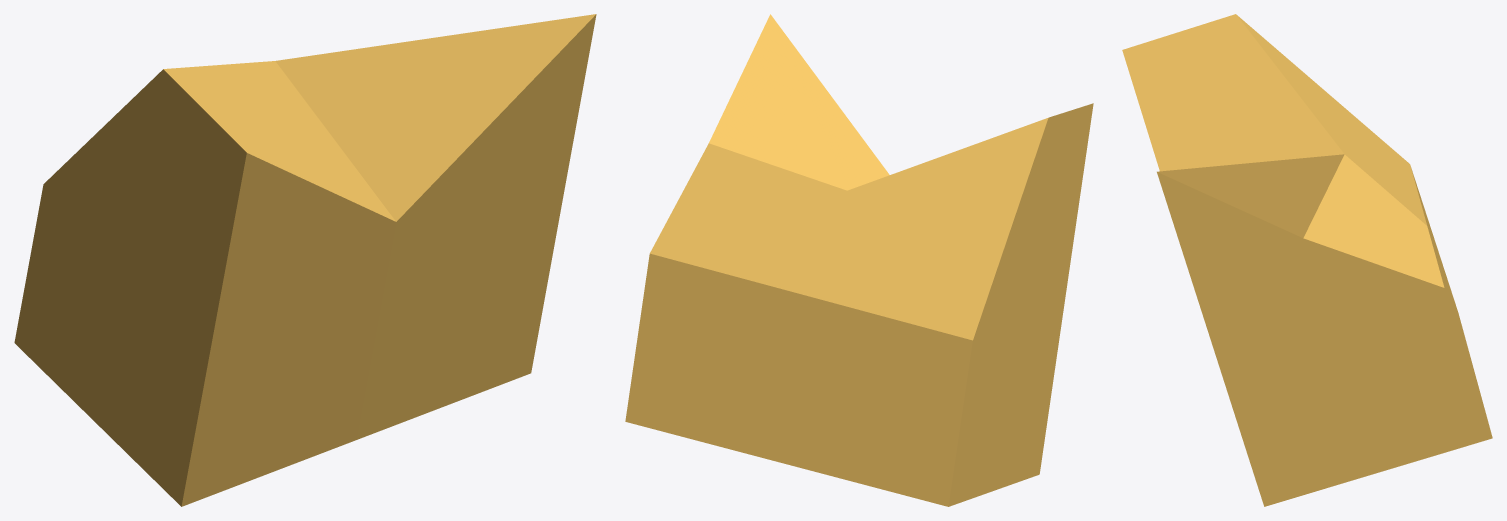
The model's file is Boat skeleton broken column.fbx.
3 renders of one model, left to right at view 1: azimuth 30°, elevation 25°; view 2: azimuth 150°, elevation 25°; view 3: azimuth 270°, elevation 25°, orthographic. The views are drawn at different scales.
Parts seen in each view (by area): view 1: Broken columns; view 2: Broken columns; view 3: Broken columns.
Part boxes in pixels (x1,y1,x2,y2): Broken columns: [14, 14, 596, 506]; Broken columns: [625, 14, 1093, 506]; Broken columns: [1122, 14, 1492, 506].
Size of the model in its own units: 4.81 by 5.05 by 4.69.
